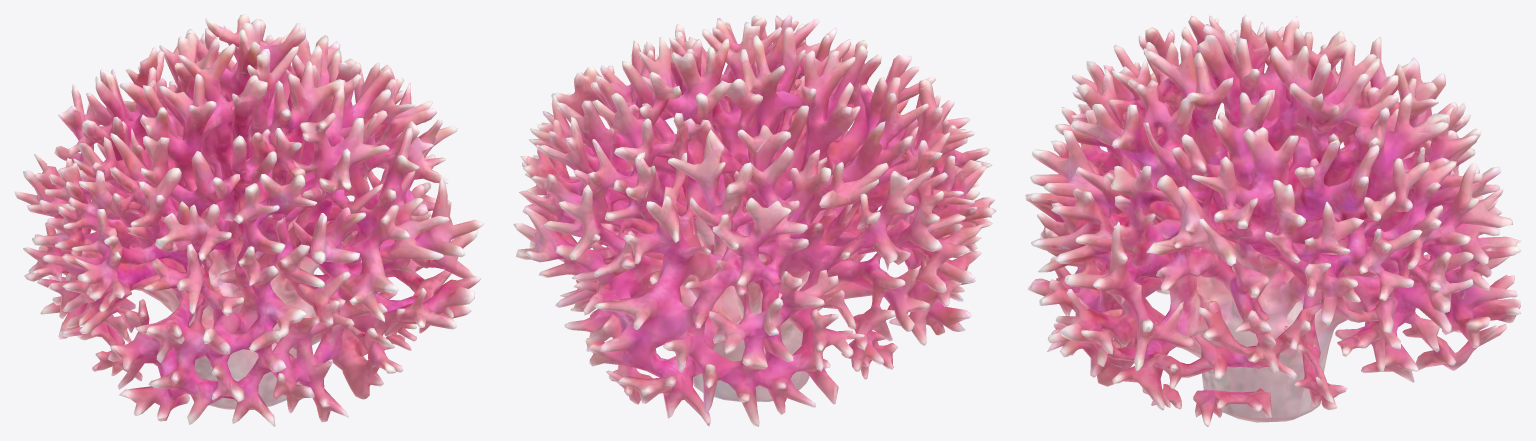
File: pocillopora.glb
The picture shows the model from 3 angles, left to right: view 1: azimuth 30°, elevation 25°; view 2: azimuth 150°, elevation 25°; view 3: azimuth 270°, elevation 25°; orthographic projection. The views are drawn at different scales.
Size of the model in its own units: 1.88 by 1.55 by 1.89.
1 material, 1 textured.
